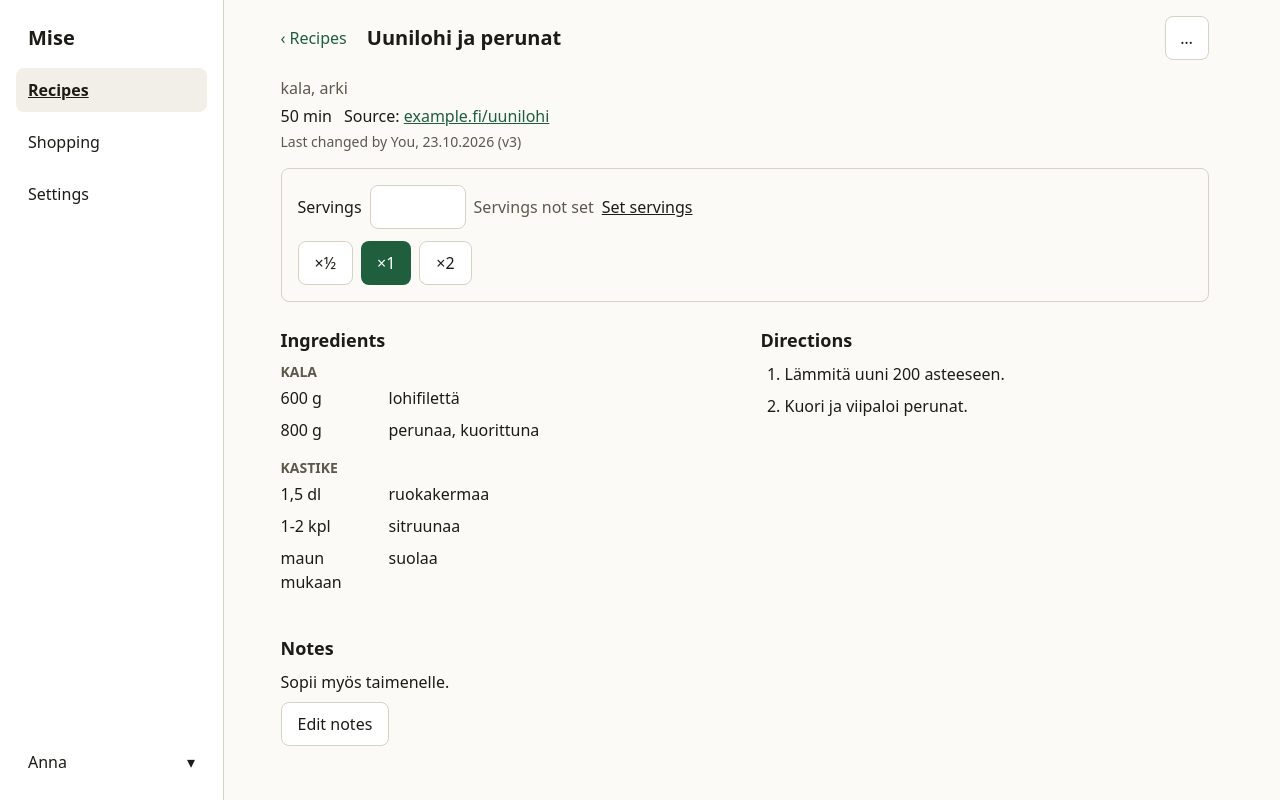
Test: recipe detail and servings converter (FR-06, AC-14) › FR-06: without a yield the servings control is disabled, factors still scale, edit link is offered
This screenshot has width=1280, height=800.
Expected: the text with test id "servings-not-set" reads "Servings not set", [474, 196, 594, 218]
Expected: the field with test id "servings-input" is disabled, [370, 185, 466, 229]
Click the button "×½" at (325, 263), box [298, 241, 353, 285]
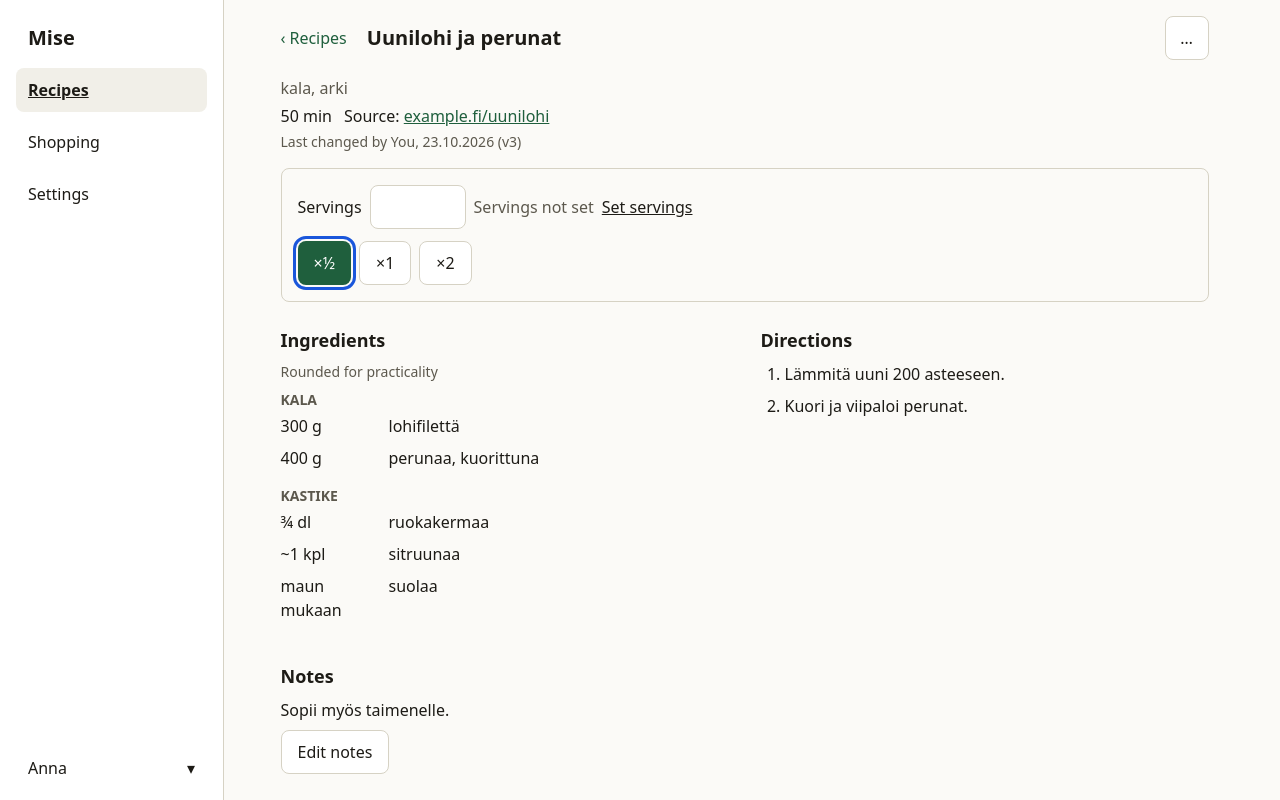
Expected: the list item with test id "ingredient-line" shows "300 g", [280, 415, 322, 437]
Click the button "×2" at (445, 263), box [419, 241, 472, 285]
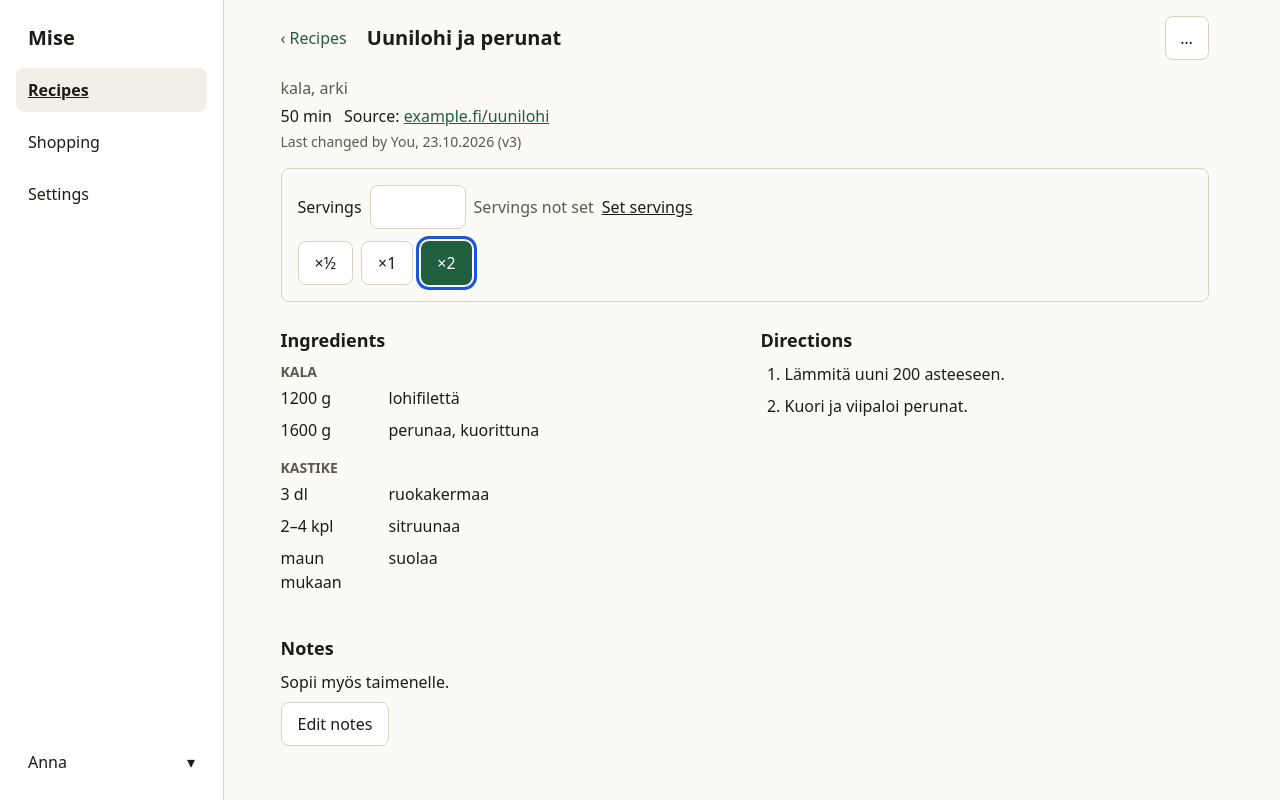
Expected: the list item with test id "ingredient-line" shows "1200 g", [280, 387, 331, 409]
